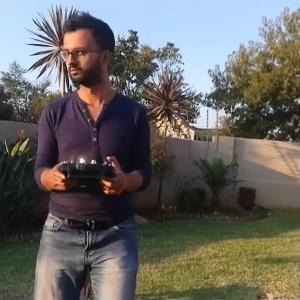follow: (27, 8, 154, 298)
